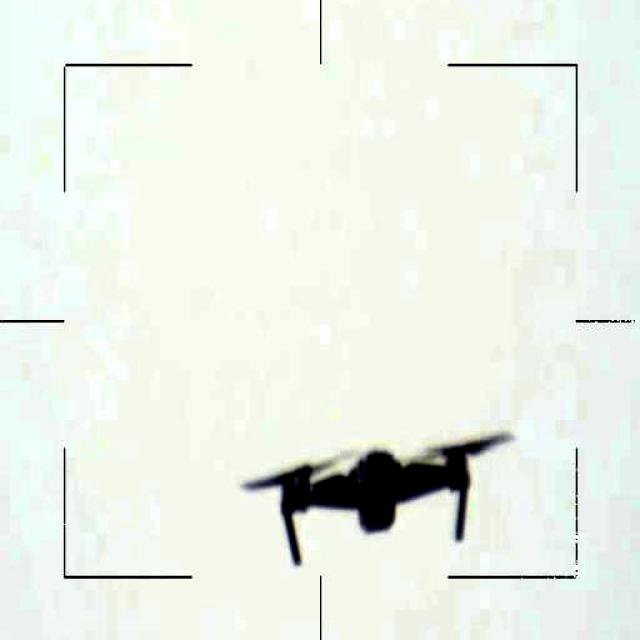bird: (235, 422, 526, 565)
